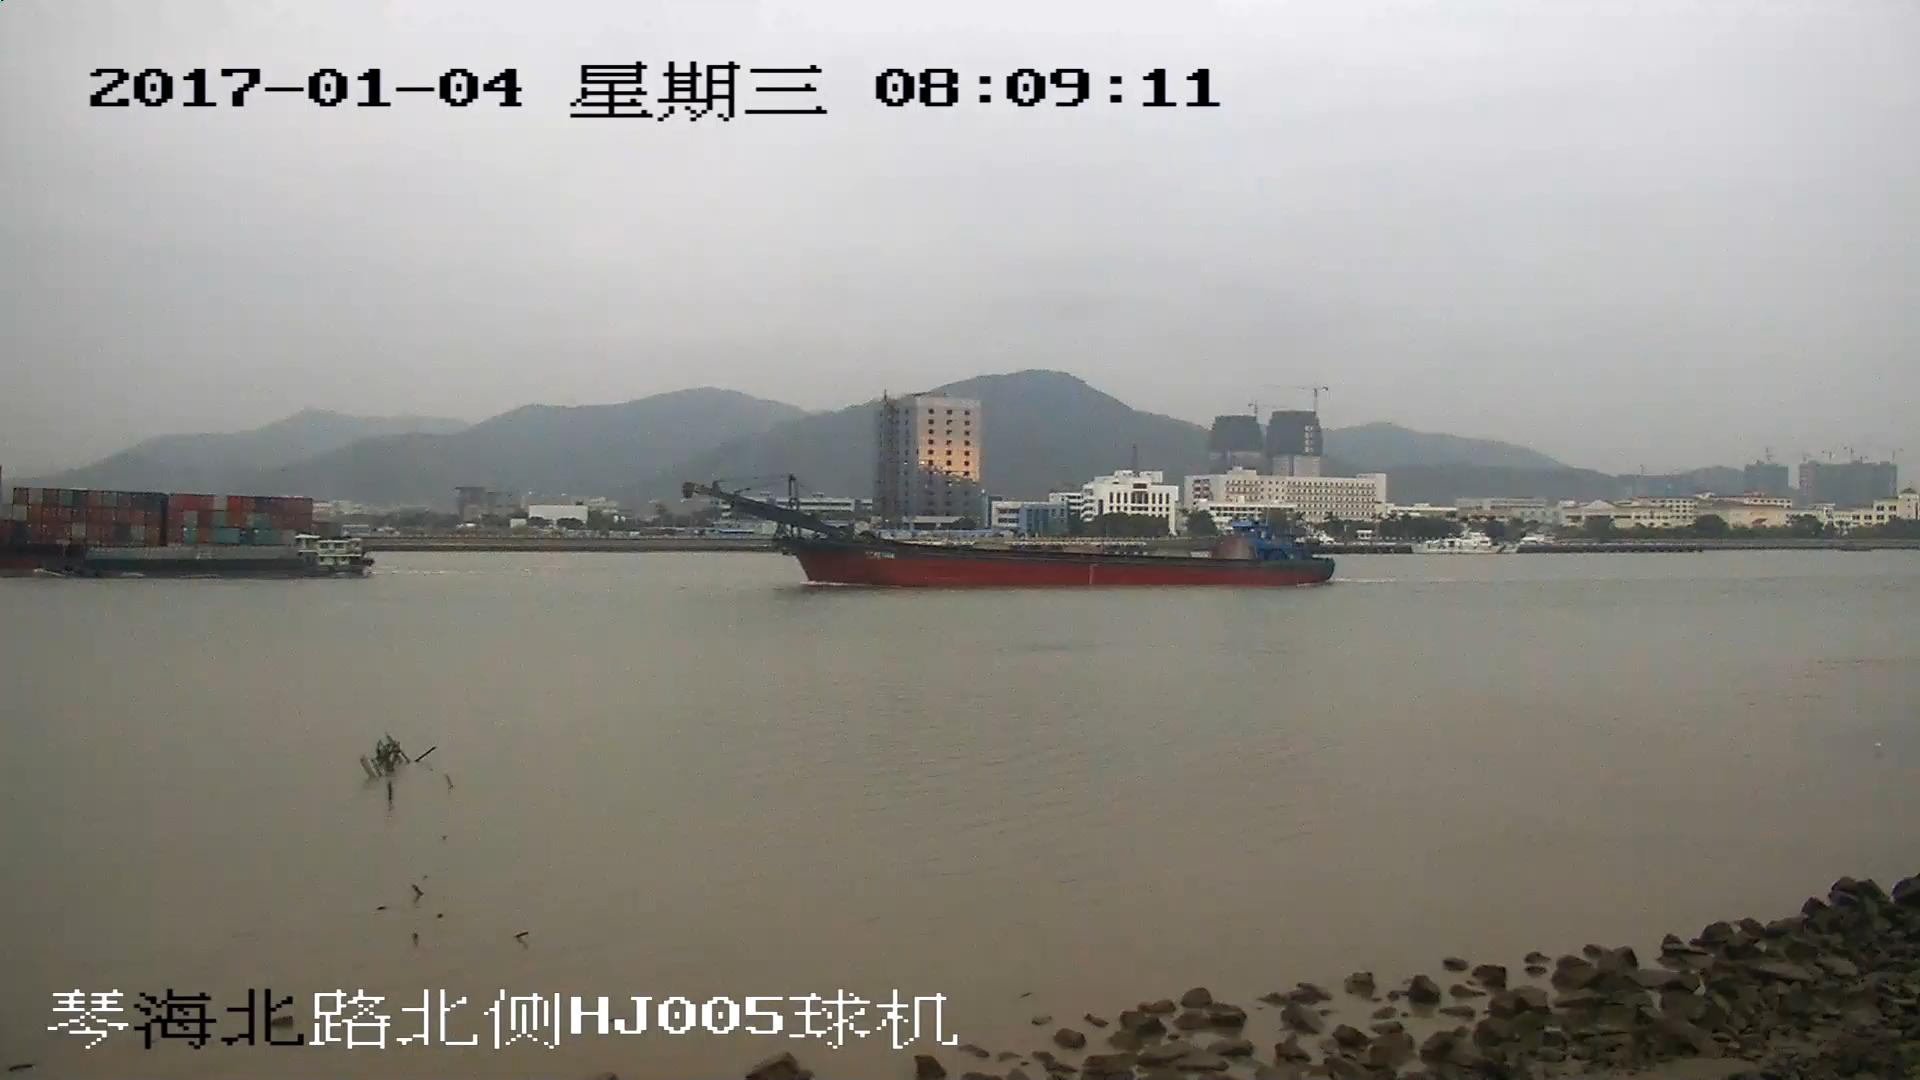bulk cargo carrier: (686, 486, 1330, 587)
container ship: (1, 489, 372, 577)
